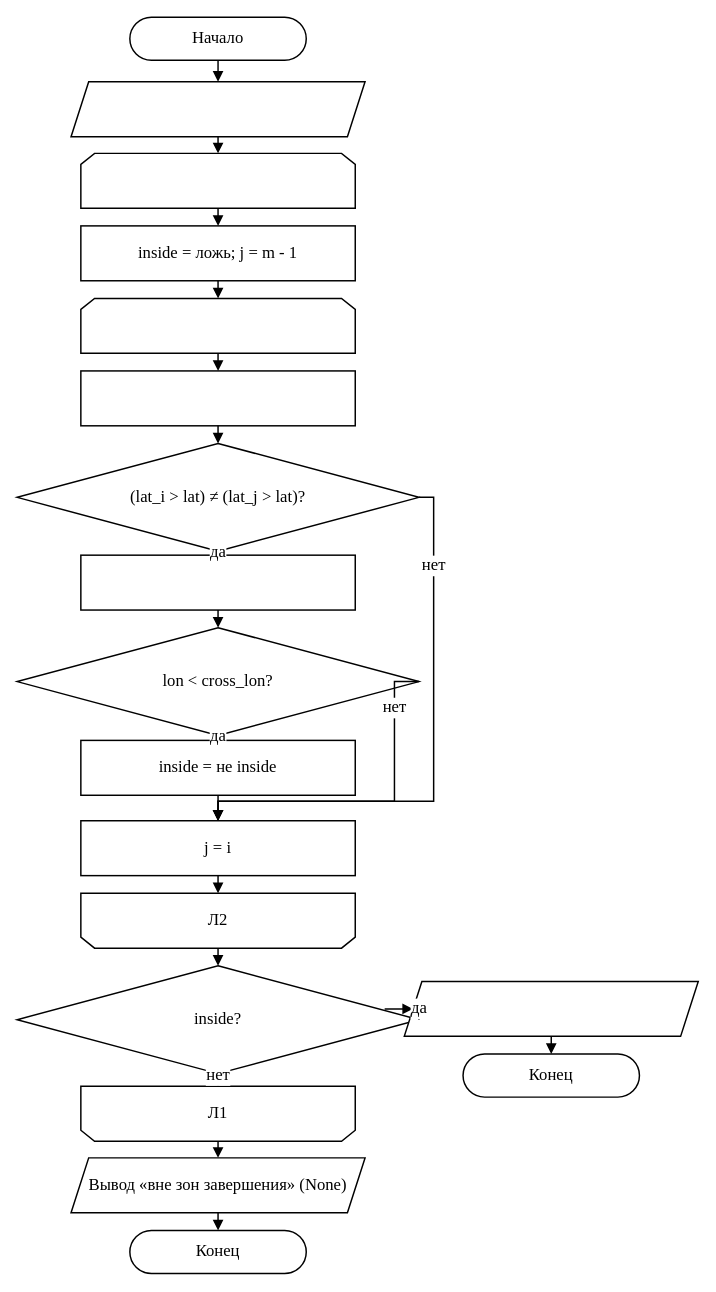
This 716x1292 diagram has some shape labels left out. Here are the shapes that lost their labels. From the top down, the box of each, then its label:
(70, 81, 365, 137): Ввод lat, lon, polygons
(80, 152, 356, 209): Л1: для каждой зоны (zone_id, vertices) из polygons
(80, 297, 356, 354): Л2: i от 0 до m - 1
(80, 370, 356, 426): (lat_i, lon_i) = vertices[i]; (lat_j, lon_j) = vertices[j]
(80, 554, 356, 610): cross_lon = lon_i + (lat - lat_i) · (lon_j - lon_i) / (lat_j - lat_i)
(403, 980, 699, 1037): Вывод zone_id
